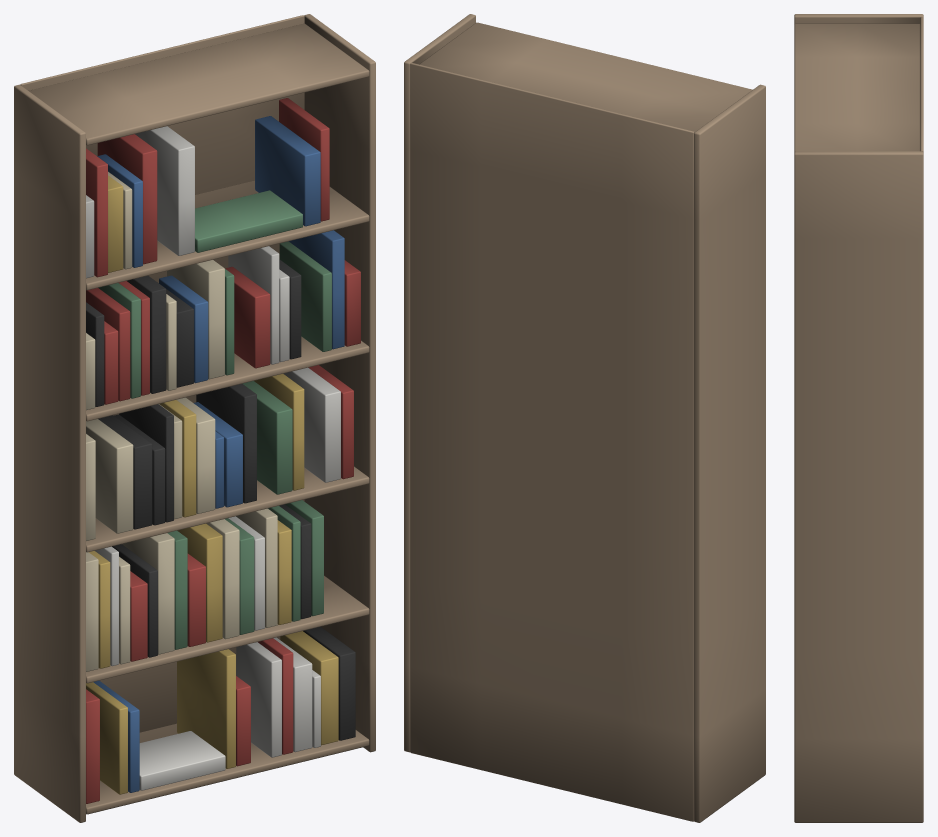
The model's file is shelf.glb.
The picture shows the model from 3 angles, left to right: view 1: azimuth 30°, elevation 25°; view 2: azimuth 150°, elevation 25°; view 3: azimuth 270°, elevation 25°; orthographic projection. The views are drawn at different scales.
Parts seen in each view (by area): view 1: p_shelf; view 2: p_shelf; view 3: p_shelf.
Boxes of the visible parts, x1=… form: p_shelf: x1=14, y1=14, x2=375, y2=822; p_shelf: x1=404, y1=14, x2=765, y2=822; p_shelf: x1=794, y1=14, x2=923, y2=822.
Bounding box in the file's own units: 0.9 × 2 × 0.35.
